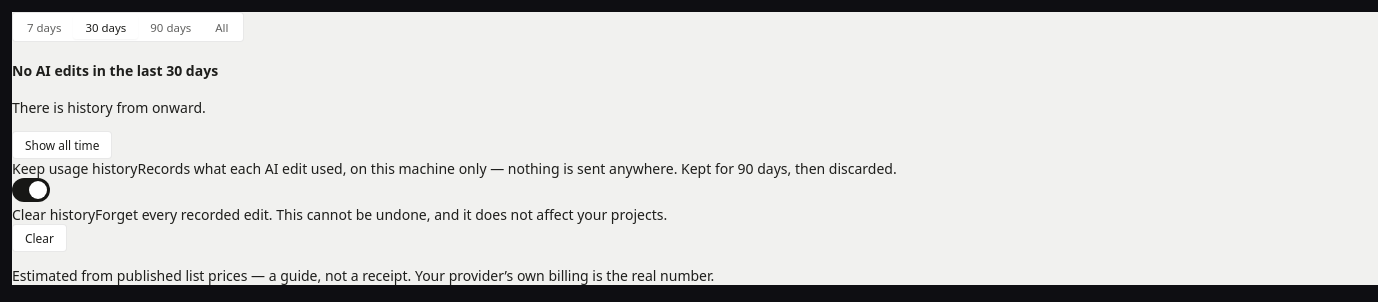
Test: clearing history › confirms with a button that names what it destroys
Click the button "Clear": (39, 238) top-left (12, 224), bottom-right (67, 252)
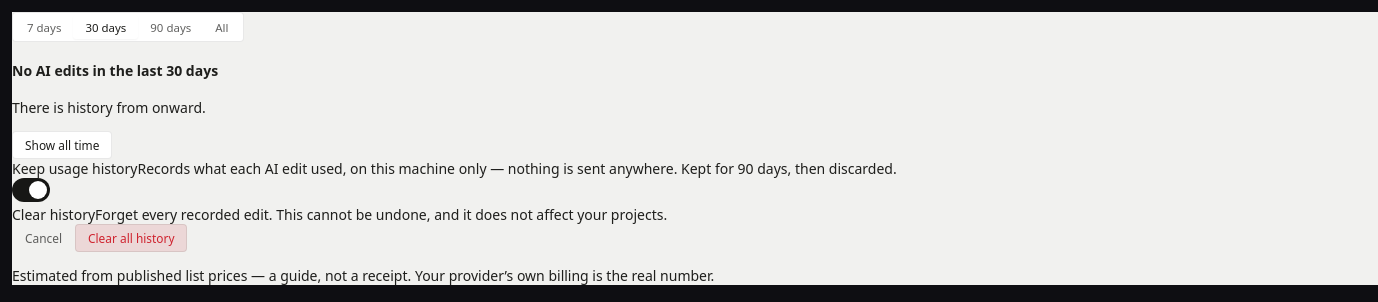
Result: the button "Clear all history" is shown at top-left (75, 224), bottom-right (187, 252)
